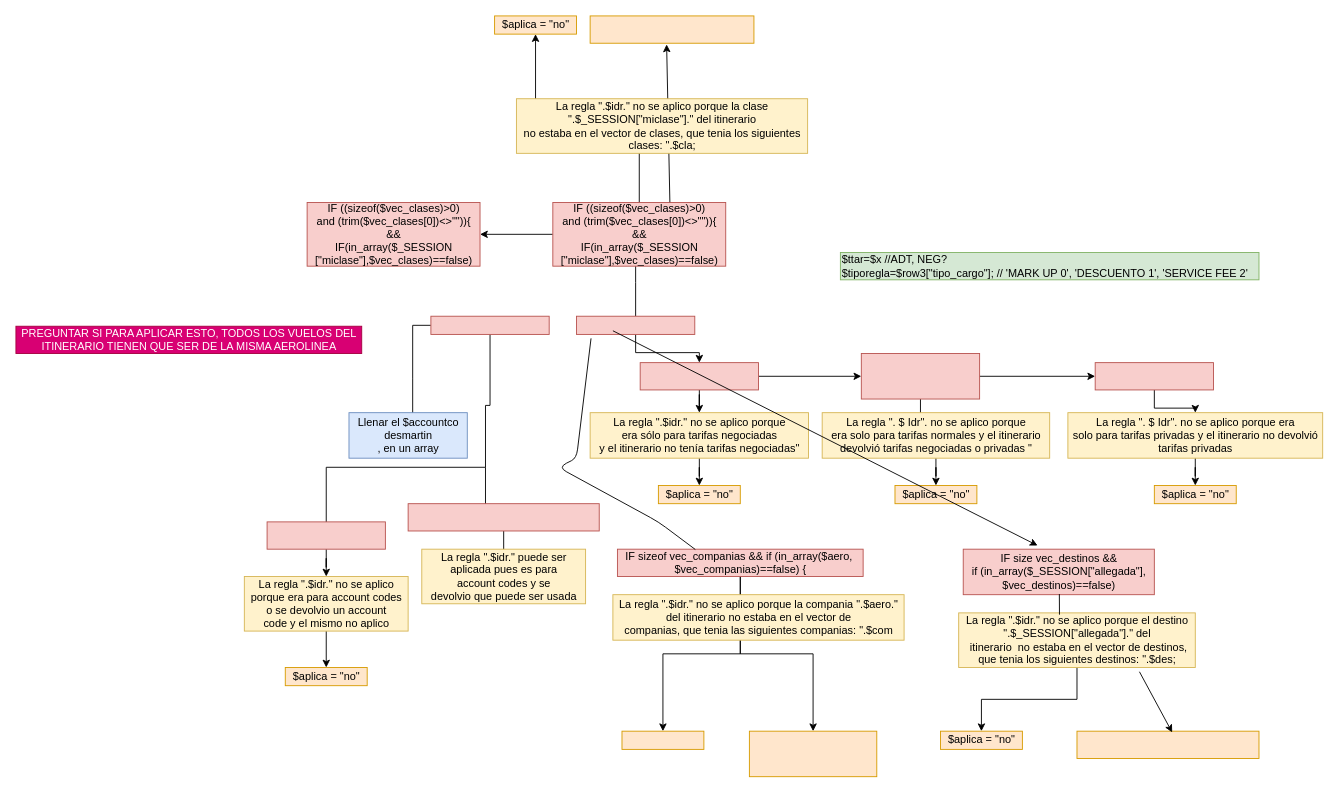
The diagram is 1339 pixels wide and 793 high, and some of its shapes have lost their labels. The shapes that lost their labels are listed below. From the top down, each one's centre as x and y in pixels, then its label:
pixel 671 29: $razon = "La clase no estaba en el vector de clases"
pixel 489 324: SI ACCOUNT CODE
pixel 635 324: NO ACCOUNT CODE
pixel 698 376: if (($ttar<>"NEG") and ($tiporeg=="1")){
pixel 920 376: if ((($ttar=="NEG") or ($espriv=="true")) and ($tiporeg=="0")){
pixel 1153 376: if (($ espriv <> "true") y ($ tiporeg == "3")) {
pixel 325 535: Si fri_corporateid == '' (viene del xml)
pixel 503 517: if ($_SESSION["regla_de_ account_code"]==$row3["eidregla"])
pixel 662 739: $aplica = "np";
pixel 812 753: $razon = "La compañia no estaba en el vector de compañias"
pixel 1167 744: $razon = "El destino no estaba en el vector de destinos"
